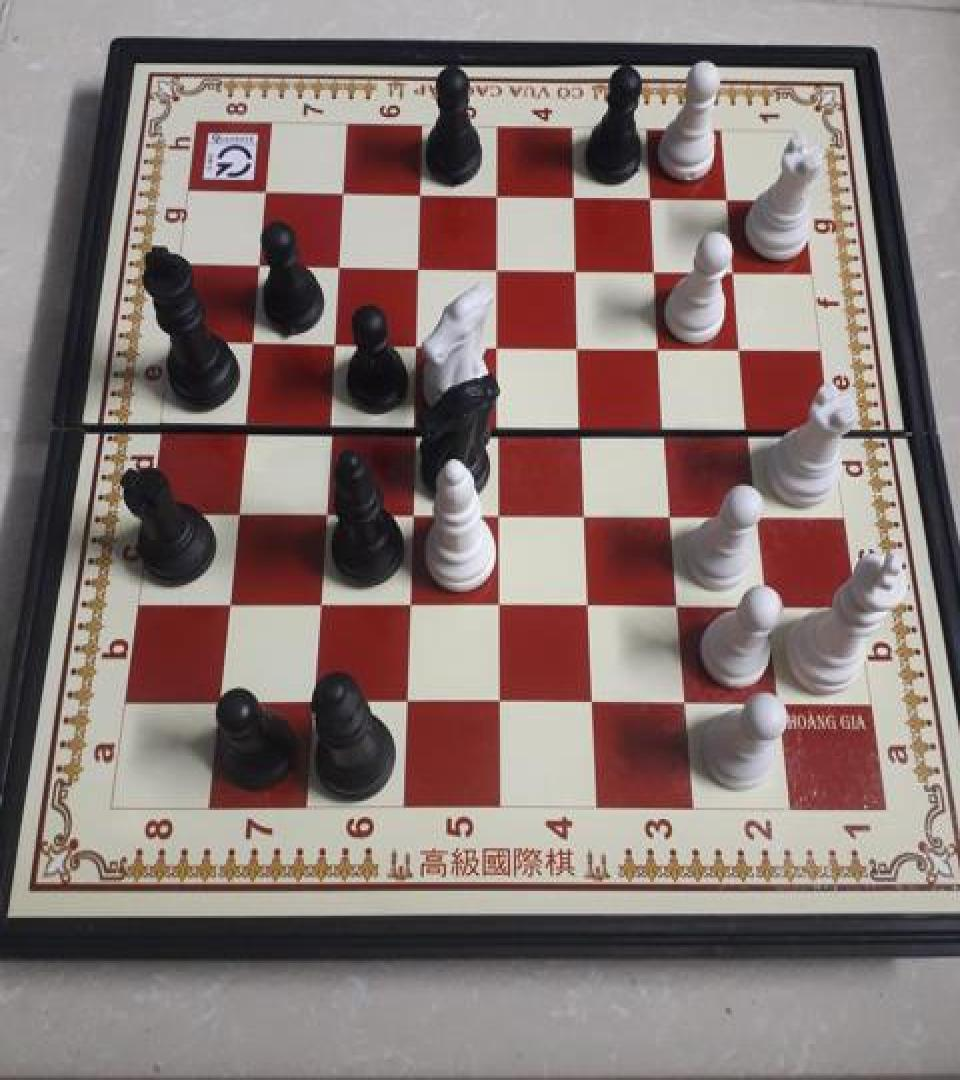xcorner: (207, 680, 239, 716), (300, 682, 332, 718), (394, 682, 426, 718), (487, 682, 519, 718), (579, 683, 611, 719), (671, 683, 703, 719), (763, 684, 795, 720), (215, 583, 247, 619), (306, 583, 338, 619), (396, 584, 428, 620), (486, 584, 518, 620), (575, 585, 607, 621), (664, 586, 696, 622), (753, 586, 785, 622), (223, 490, 255, 526), (311, 492, 343, 528), (398, 492, 430, 528), (485, 493, 517, 529), (572, 494, 604, 530), (658, 494, 690, 530), (744, 495, 776, 531), (230, 404, 262, 440), (315, 405, 347, 441), (400, 406, 432, 442), (484, 407, 516, 443), (568, 407, 600, 443), (652, 408, 684, 444), (735, 410, 767, 446), (237, 323, 269, 359), (320, 324, 352, 360), (402, 325, 434, 361), (484, 326, 516, 362), (565, 328, 597, 364), (646, 328, 678, 364), (244, 246, 276, 282), (324, 248, 356, 284), (403, 248, 435, 284), (483, 250, 515, 286), (562, 251, 594, 287), (641, 252, 673, 288), (720, 253, 752, 289), (250, 174, 282, 210), (327, 176, 359, 212), (405, 176, 437, 212), (482, 178, 514, 214), (559, 179, 591, 215), (636, 180, 668, 216), (712, 181, 744, 217), (727, 329, 759, 364)
